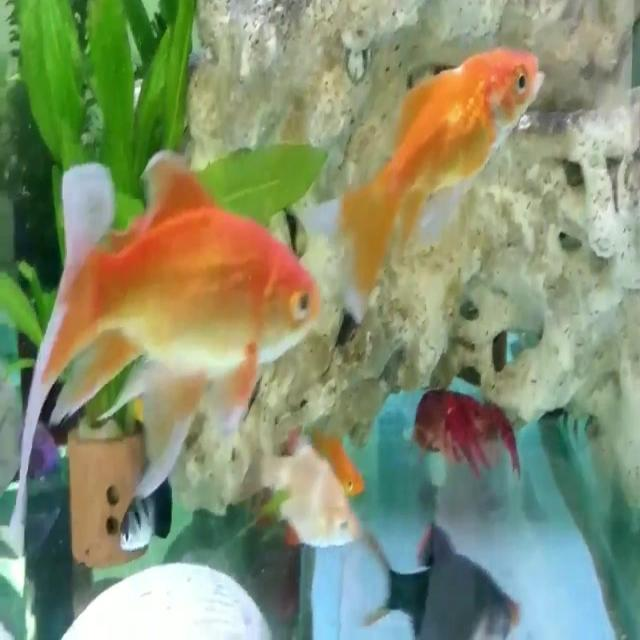GoldFish: (6, 127, 323, 556), (305, 24, 546, 334)
